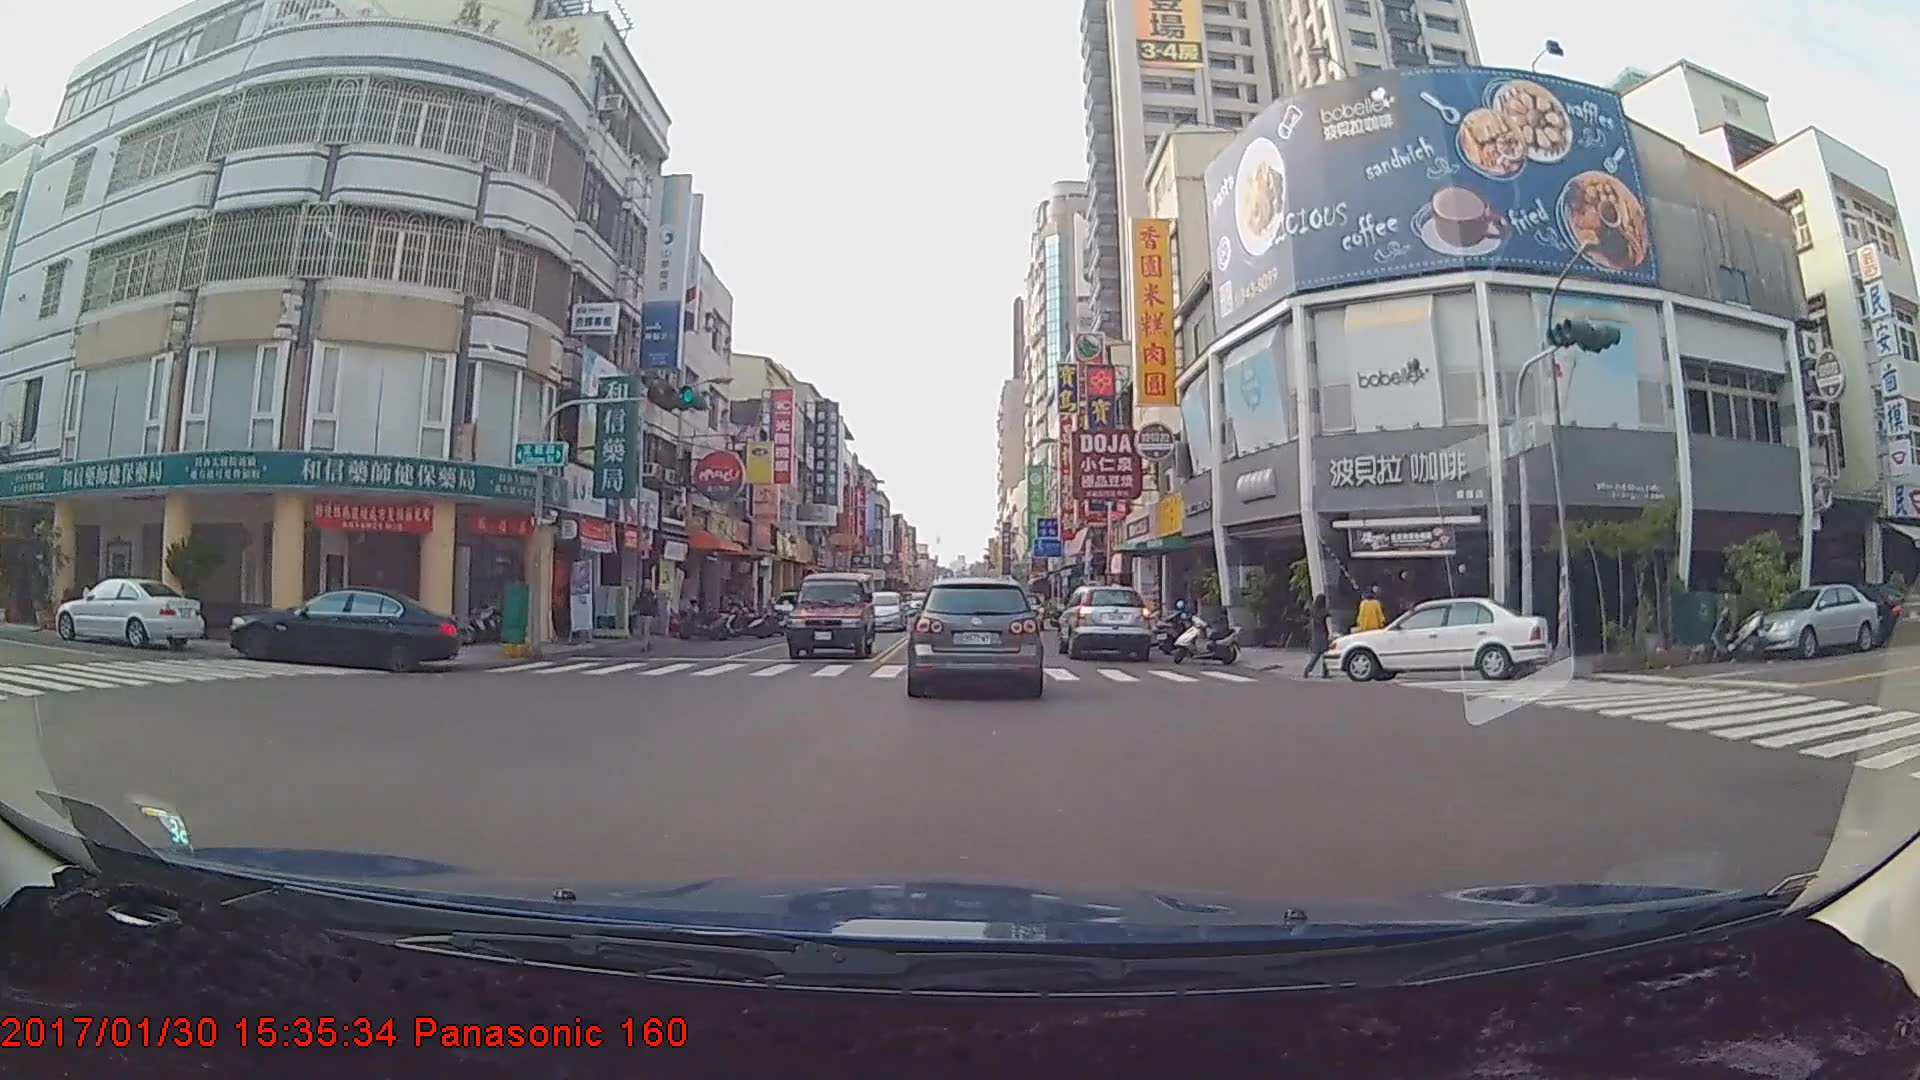pedestrian: (1354, 587, 1391, 668), (1306, 595, 1338, 683), (629, 578, 660, 651)
vehicle: (227, 583, 459, 672), (1323, 596, 1555, 685), (909, 577, 1038, 696), (56, 577, 204, 655), (1746, 582, 1885, 658), (782, 570, 873, 662), (1058, 581, 1153, 663), (858, 589, 907, 632), (768, 590, 816, 628)
